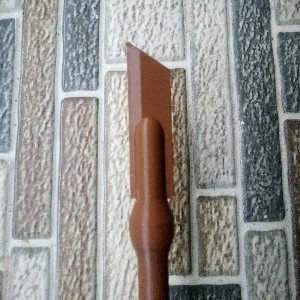cutter: (125, 40, 177, 300)
